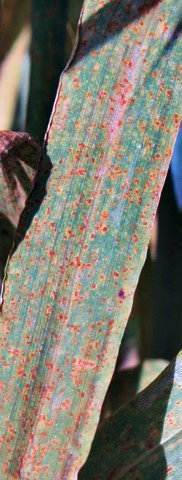Leaf Rust: (9, 32, 182, 429)
